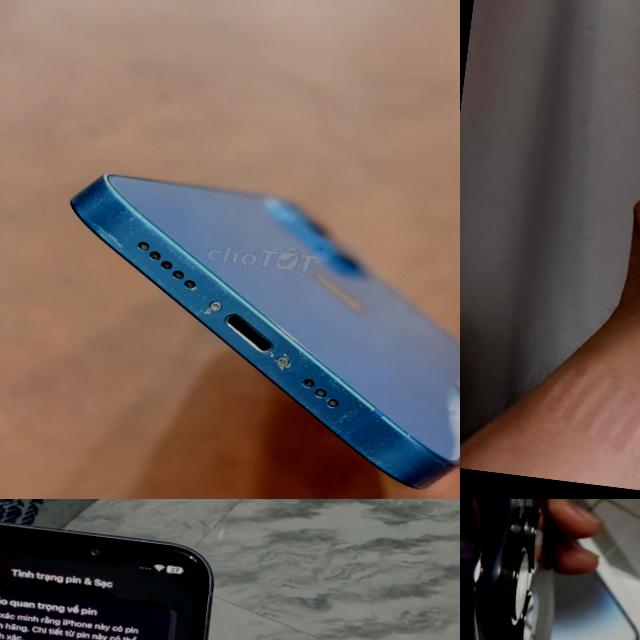scratch: (46, 172, 444, 466), (26, 519, 135, 554)
